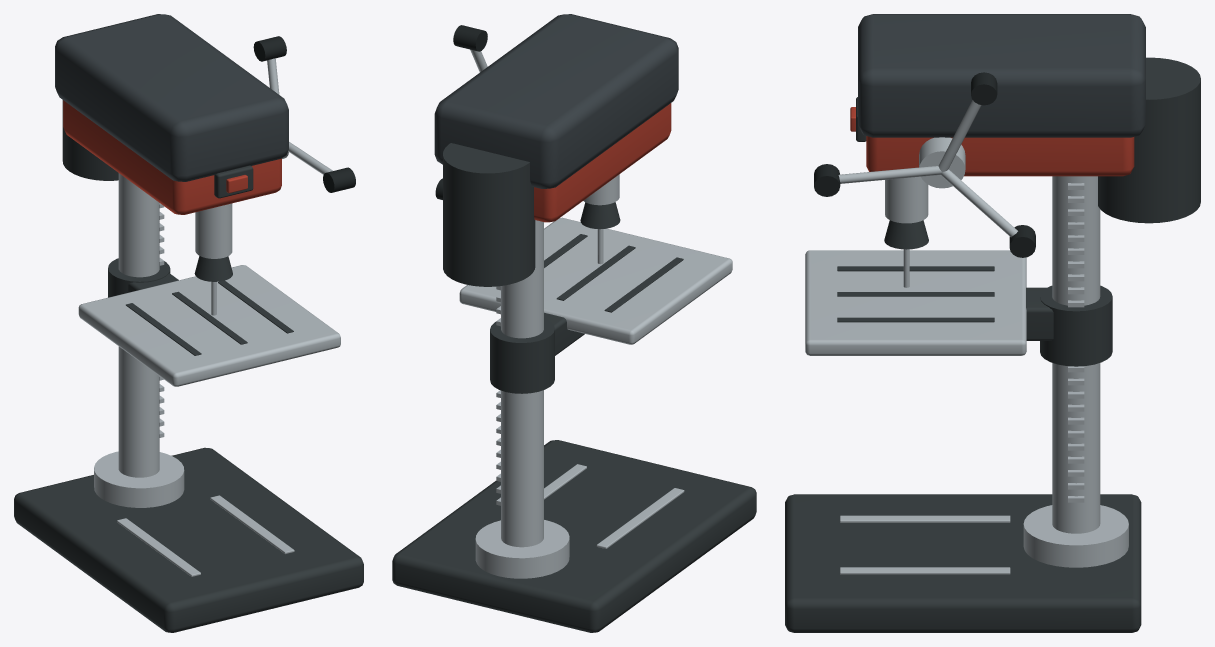
The model's file is garage-drill-press.glb.
3 views of the same model, side by side, from view 1: azimuth 30°, elevation 25°; view 2: azimuth 150°, elevation 25°; view 3: azimuth 270°, elevation 25° (orthographic). The views are drawn at different scales.
Visible parts, largest first — view 1: garage-drill-press authored assembly; view 2: garage-drill-press authored assembly; view 3: garage-drill-press authored assembly.
Part boxes in pixels (<box>): garage-drill-press authored assembly: <box>14,14,363,632</box>; garage-drill-press authored assembly: <box>392,14,756,632</box>; garage-drill-press authored assembly: <box>785,14,1200,632</box>.
Size of the model in its own units: 0.38 by 0.88 by 0.6.
